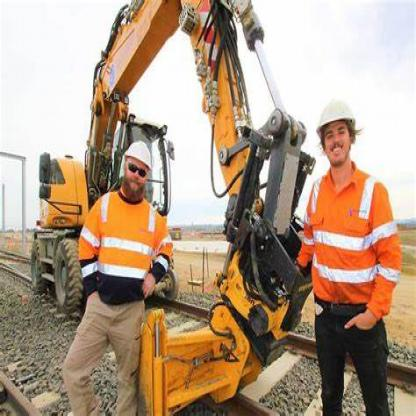person: (274, 103, 405, 415), (56, 134, 175, 415)
